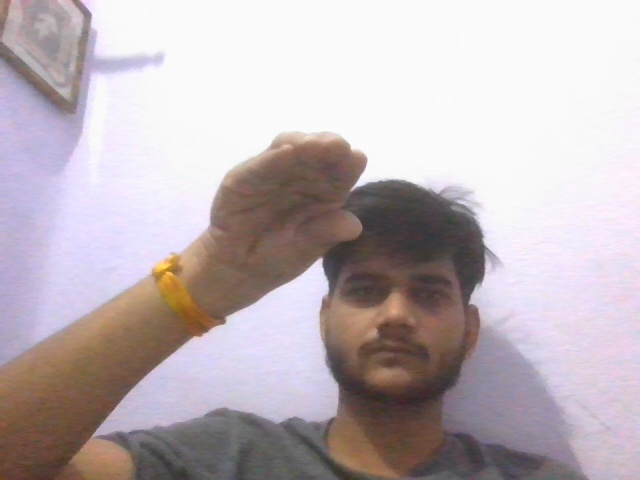sorry: (197, 112, 382, 298)
